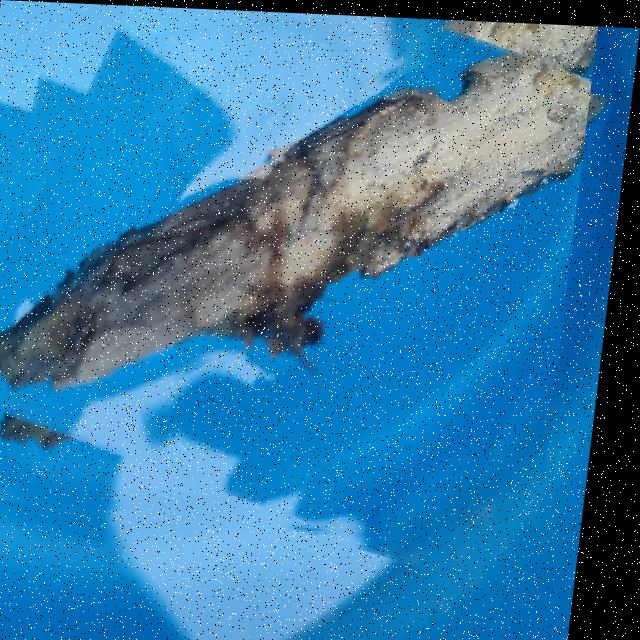litter: (0, 0, 597, 543)
